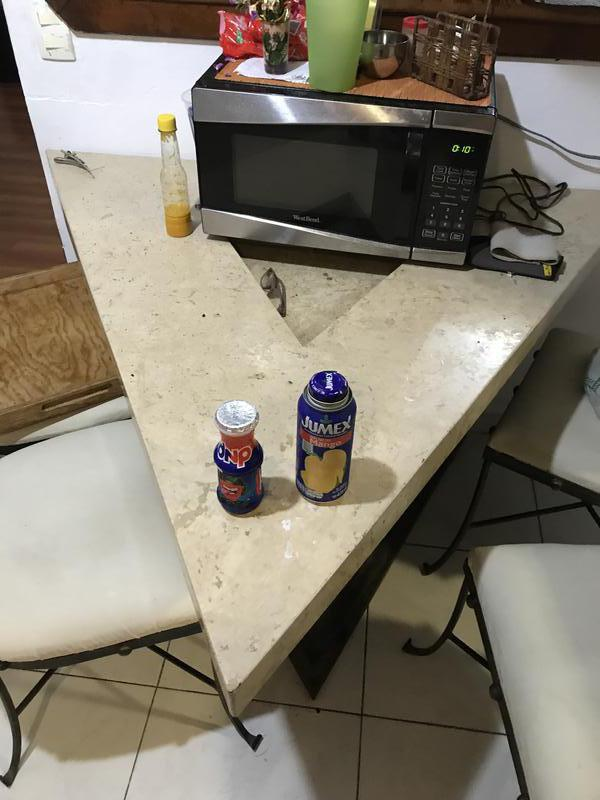danup: (212, 399, 266, 517)
jugo_jumex: (297, 374, 357, 502)
